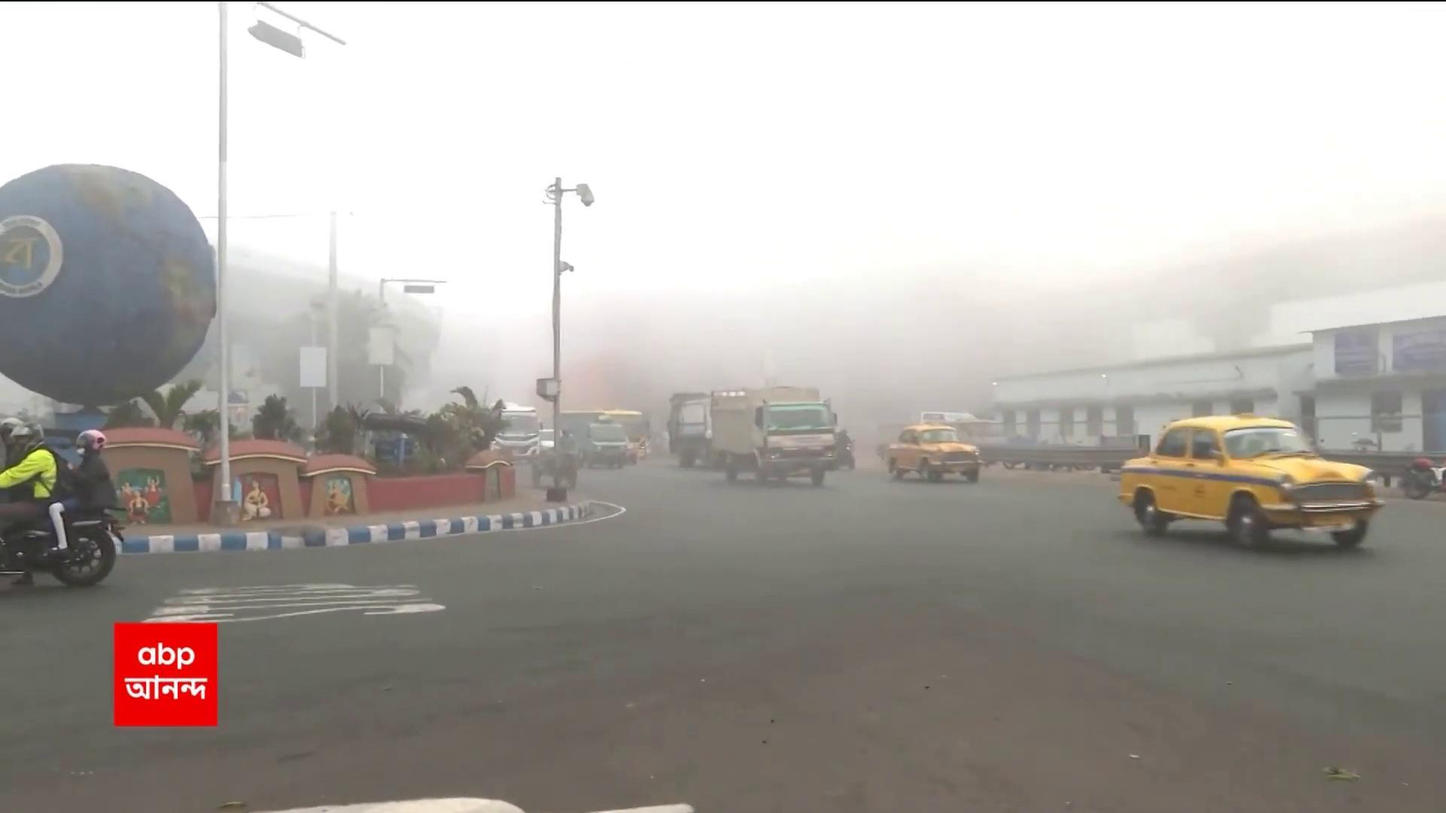Car: (1112, 410, 1379, 561), (886, 420, 985, 484)
Truck: (705, 383, 844, 488)
